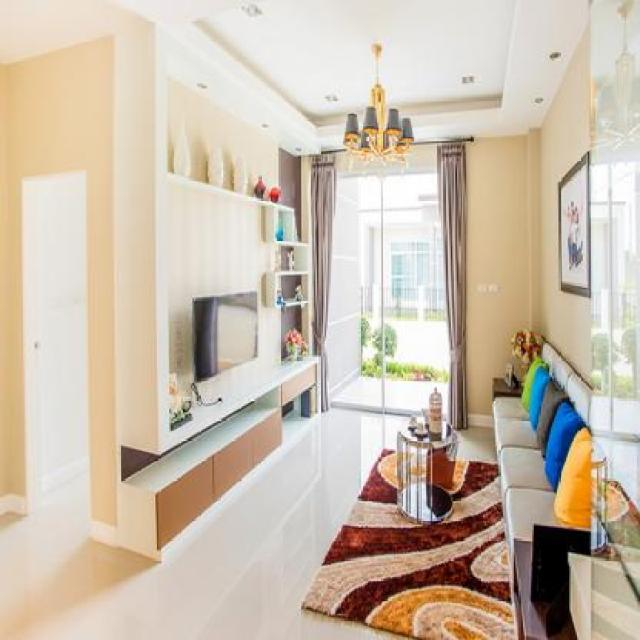floor: (0, 408, 523, 640)
